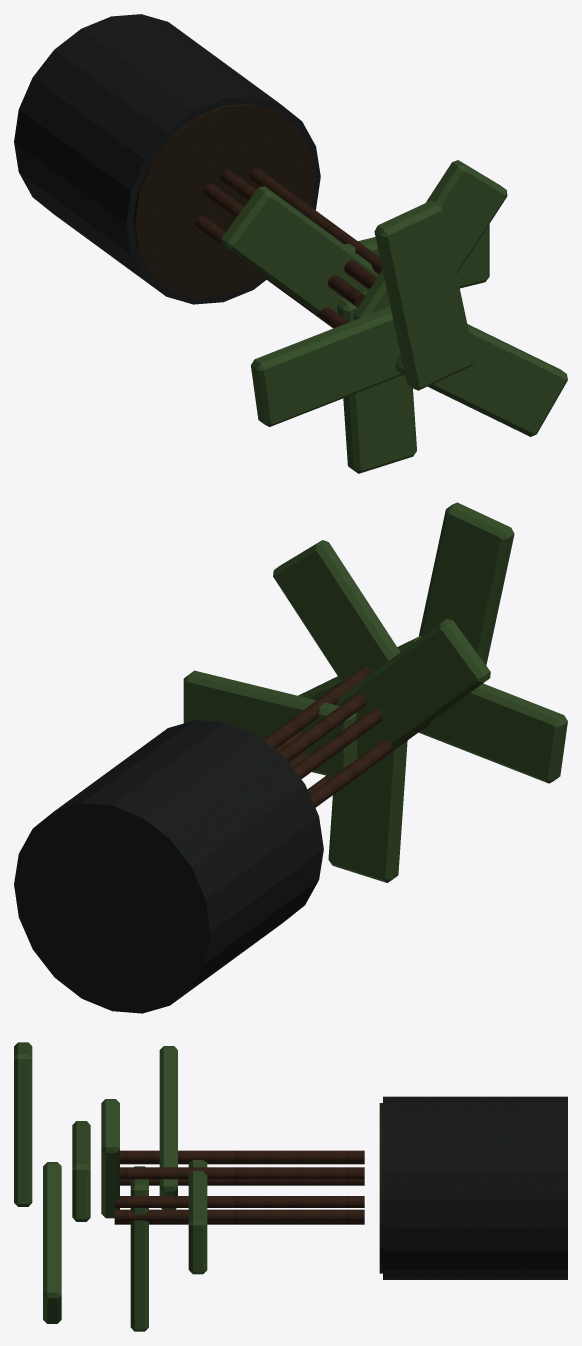
File: terrace_planter.obj
The picture shows the model from 3 angles, top to bottom: view 1: azimuth 30°, elevation 25°; view 2: azimuth 150°, elevation 25°; view 3: azimuth 270°, elevation 25°; orthographic projection. The views are drawn at different scales.
Visible parts, largest first — view 1: terrace_planter_foliage, terrace_planter_charcoal, terrace_planter_soil, terrace_planter_walnut; view 2: terrace_planter_charcoal, terrace_planter_foliage, terrace_planter_walnut; view 3: terrace_planter_charcoal, terrace_planter_foliage, terrace_planter_walnut, terrace_planter_soil.
Boxes of the visible parts, x1,y1,x2,y2 form: terrace_planter_foliage: (221, 160, 567, 473); terrace_planter_charcoal: (14, 14, 320, 304); terrace_planter_soil: (133, 103, 315, 298); terrace_planter_walnut: (195, 168, 382, 328); terrace_planter_charcoal: (14, 720, 323, 1013); terrace_planter_foliage: (183, 502, 567, 882); terrace_planter_walnut: (263, 666, 430, 807); terrace_planter_charcoal: (383, 1096, 567, 1279); terrace_planter_foliage: (14, 1042, 207, 1331); terrace_planter_walnut: (114, 1150, 364, 1224); terrace_planter_soil: (379, 1103, 382, 1273).
Bounding box in the file's own units: 31.2 × 31.32 × 59.9.
4 materials, 4 textured.
